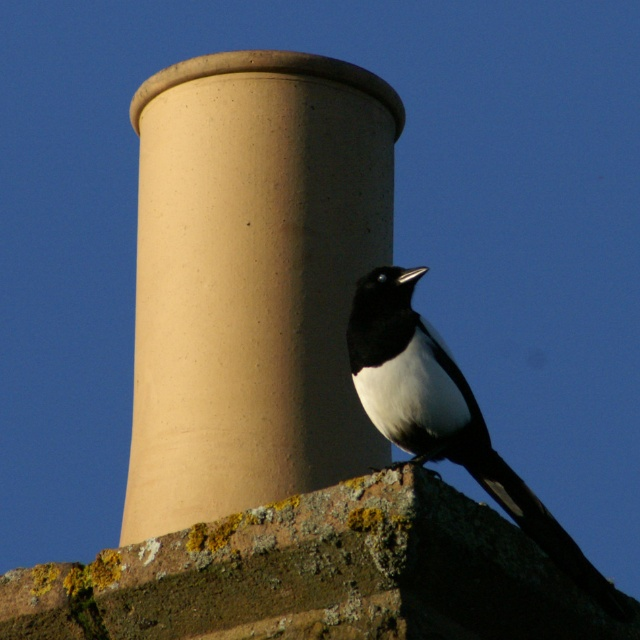Magpie: (347, 267, 622, 620)
